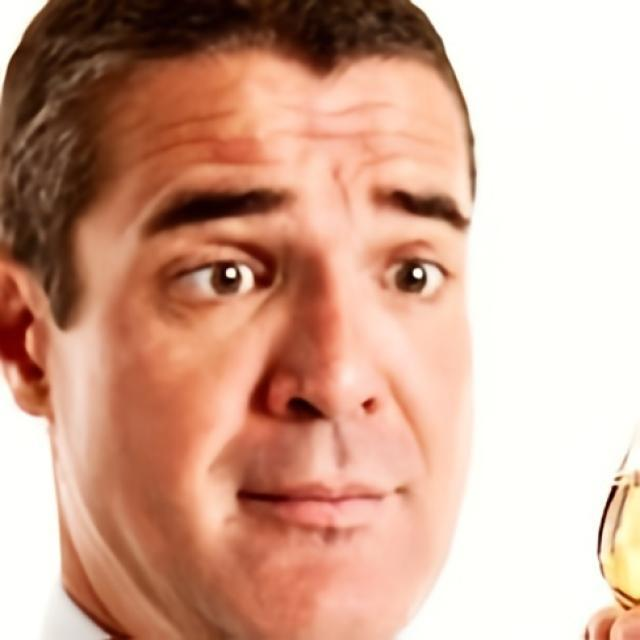surprise: (48, 36, 475, 638)
